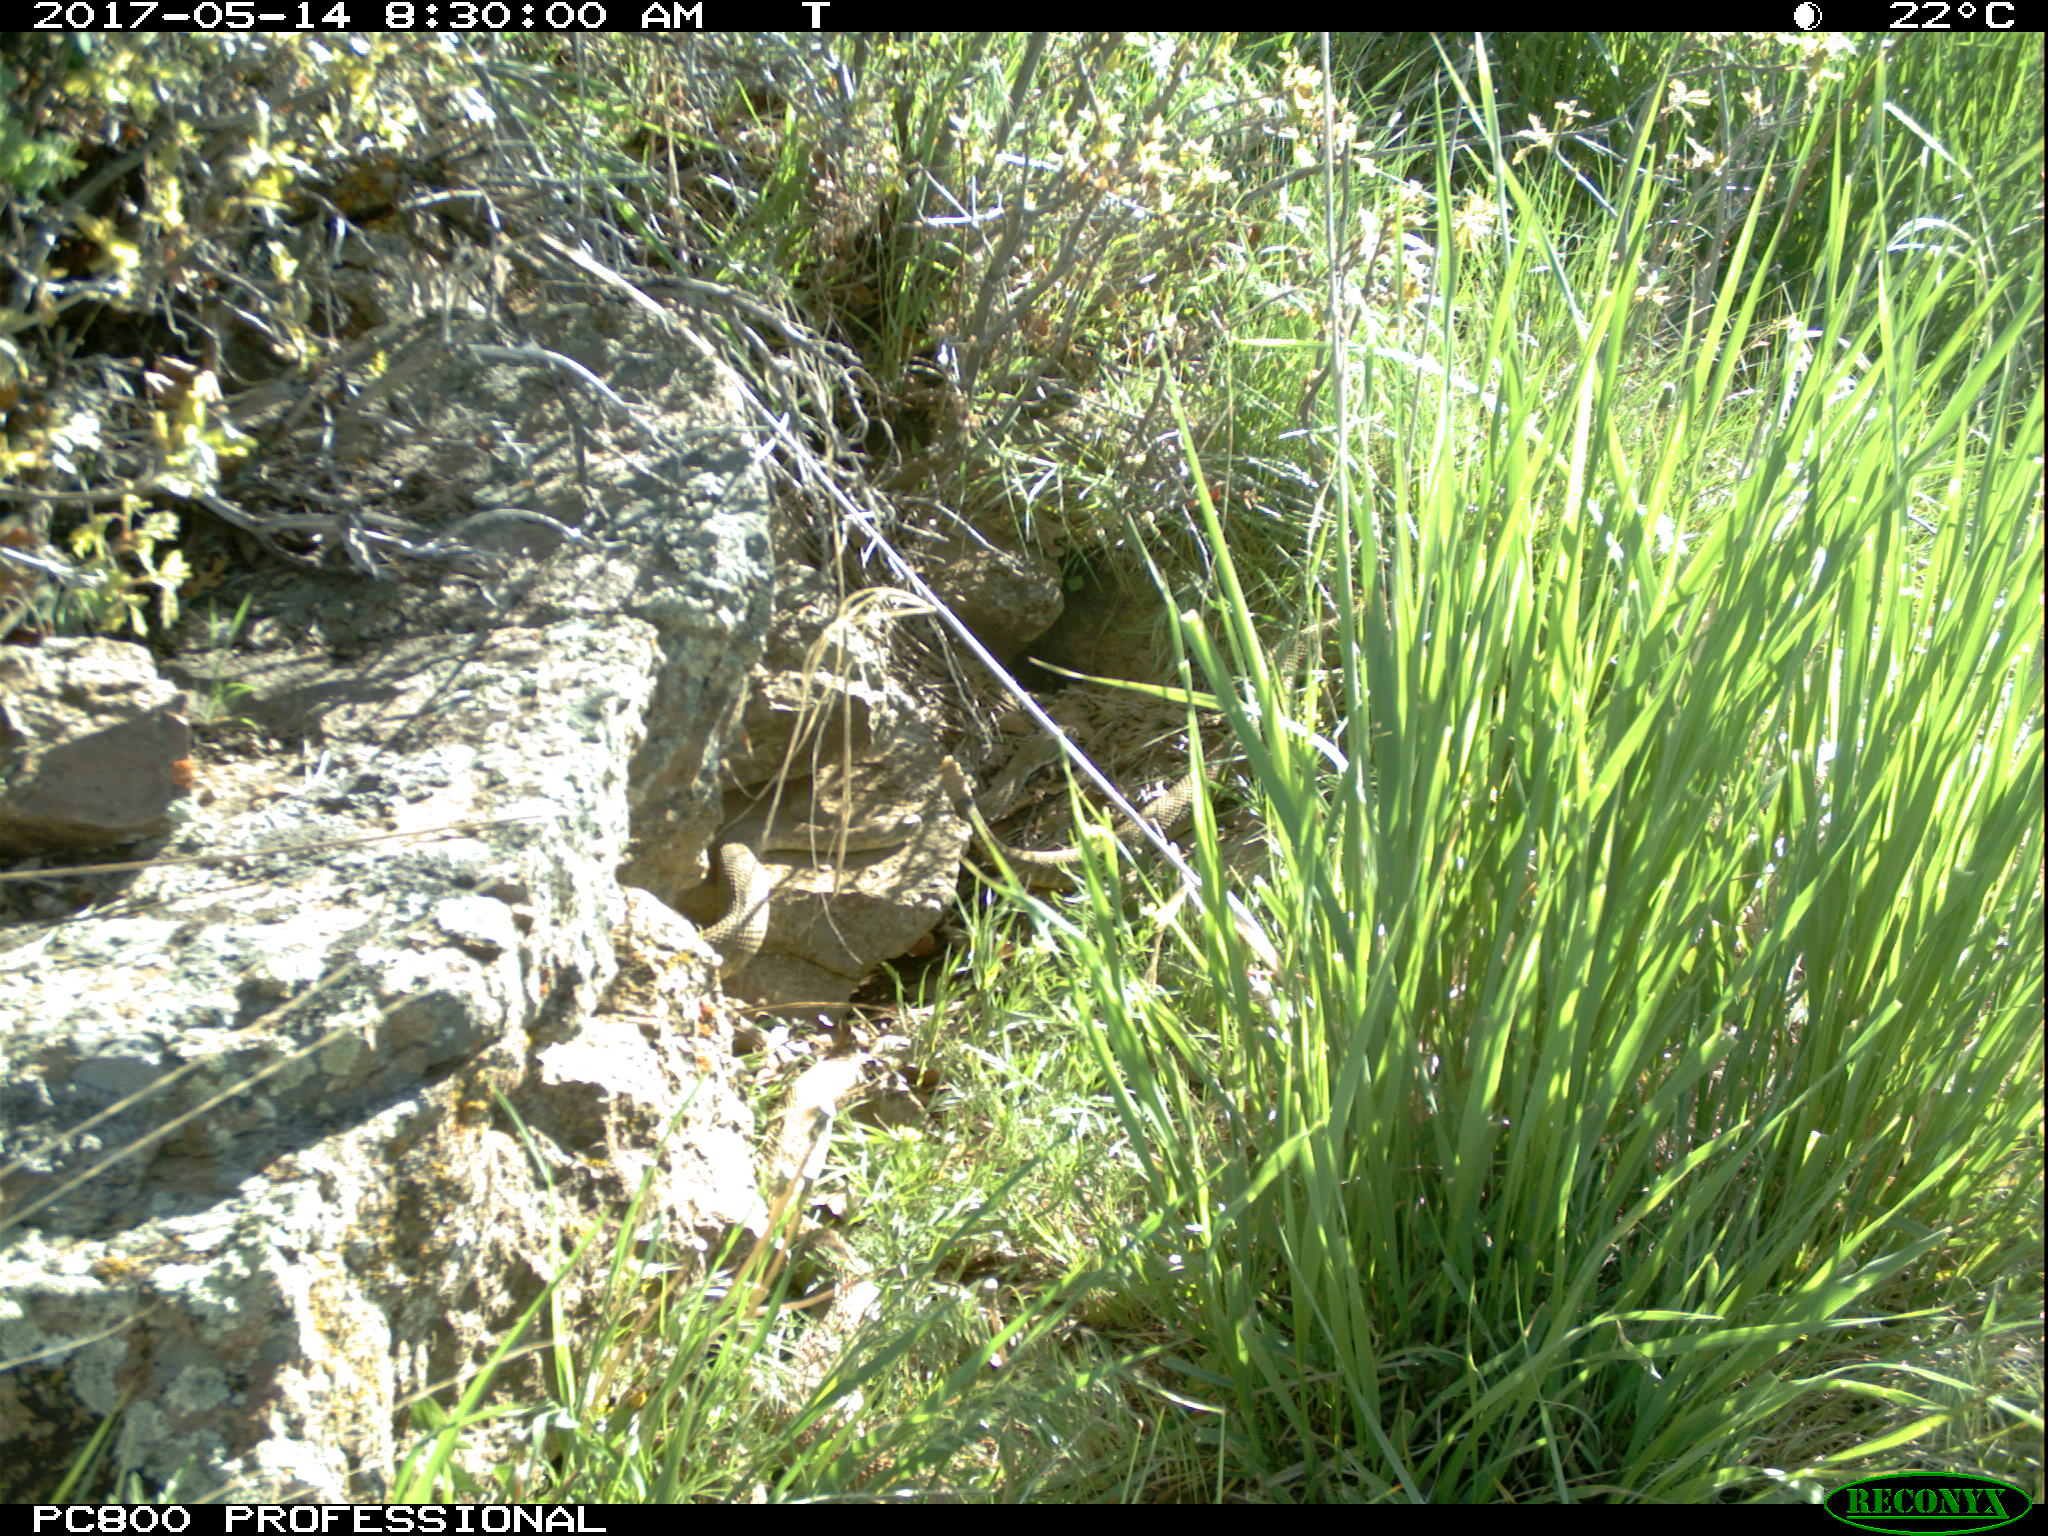snake: (971, 721, 1230, 892), (718, 797, 930, 866), (693, 807, 769, 984)
